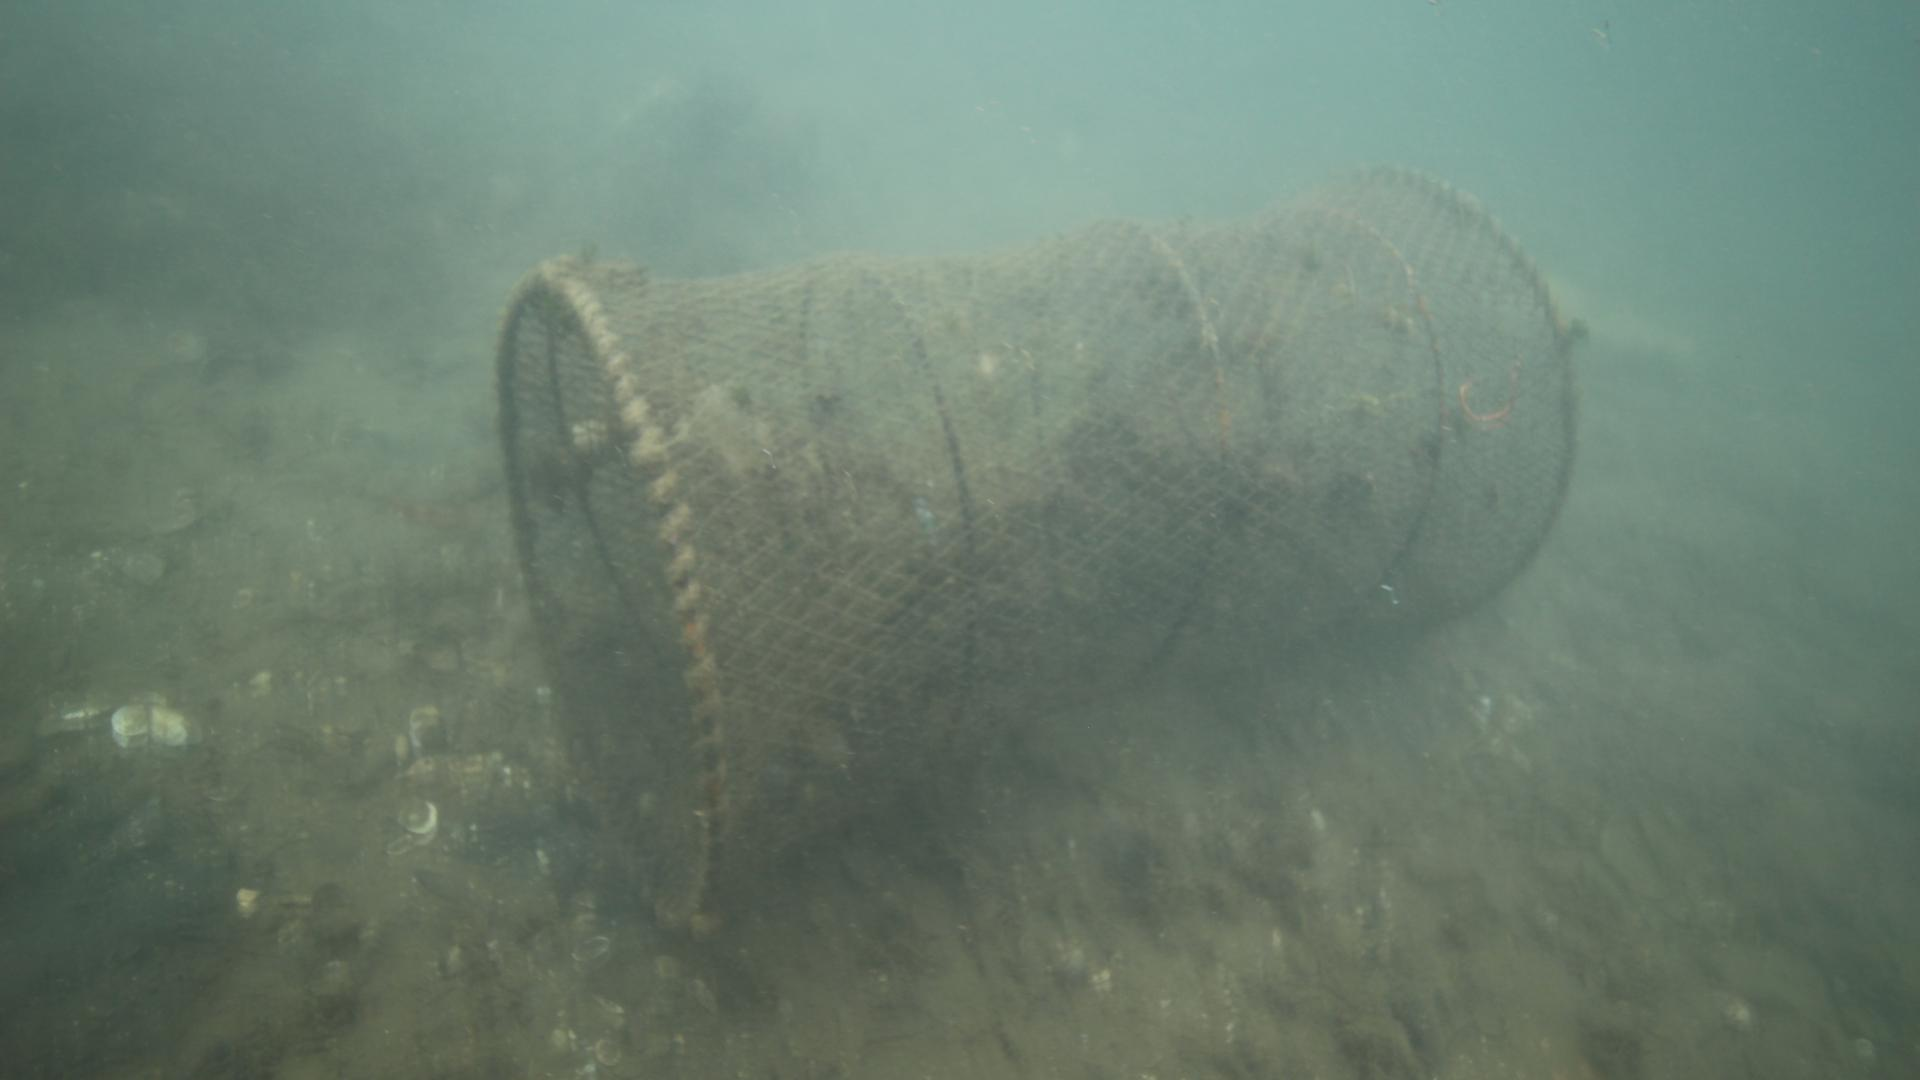spring fish trap: (495, 156, 1580, 942)
